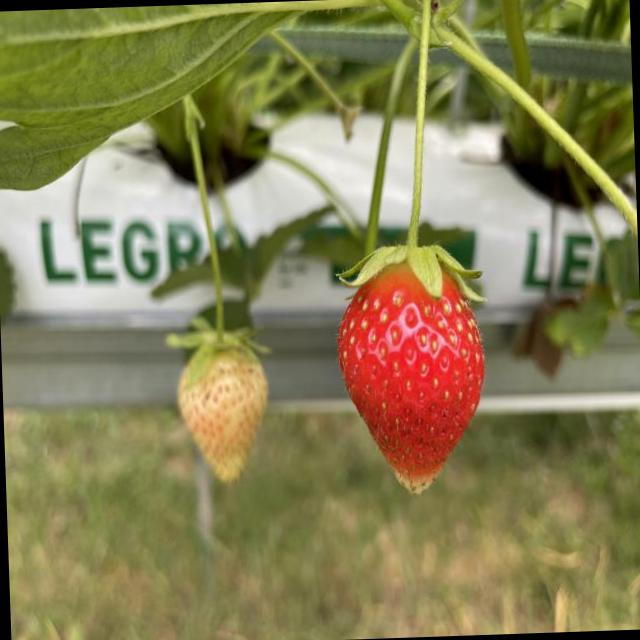stem: (340, 0, 483, 300), (167, 94, 256, 357)
strawberryR: (339, 263, 484, 491), (177, 349, 268, 481)
